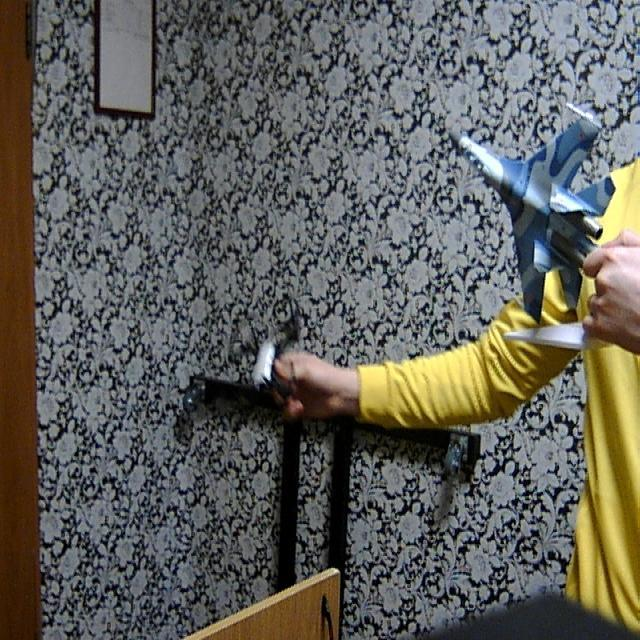drone: (208, 291, 324, 441)
